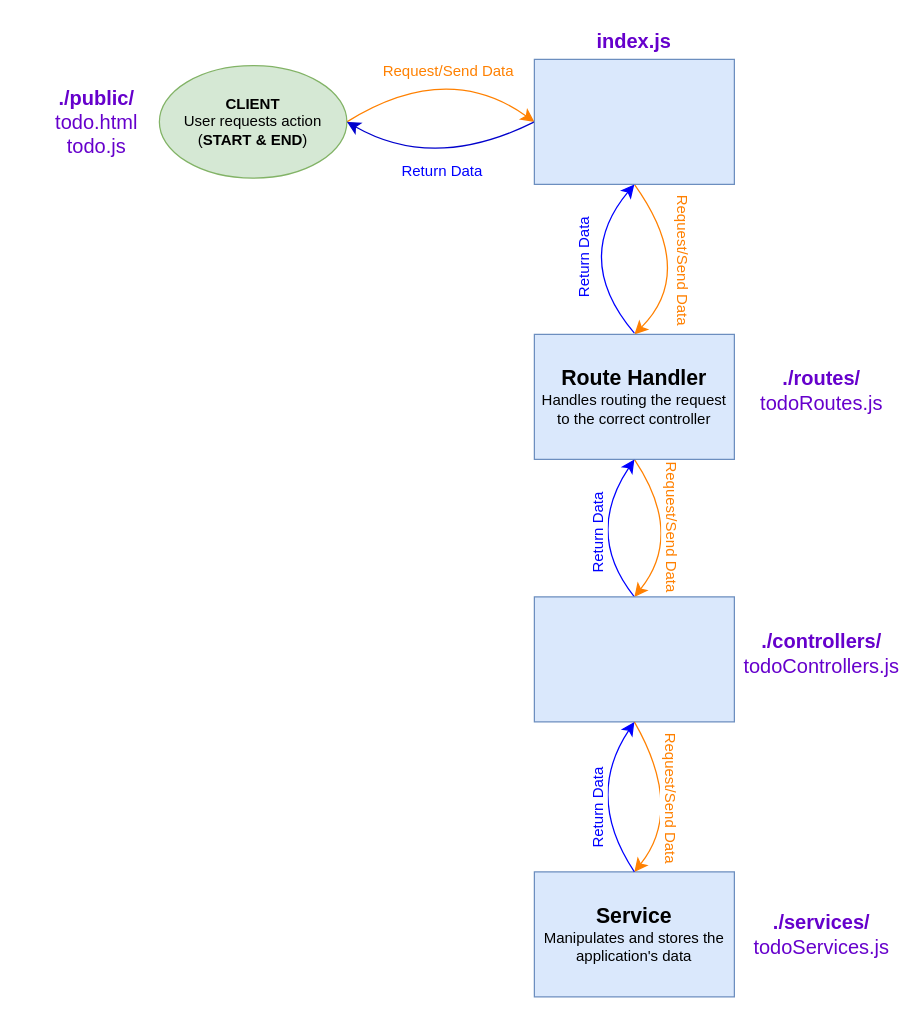
This 921x1019 diagram has some shape labels left out. The centre of each missing label's shape, as x and y in pixels:
"Controller Executes the logic and sends the request to the service layer" goes at point 633,659.
"Server Receive HTTP Request and direct it to the corresponding route" goes at point 633,121.
